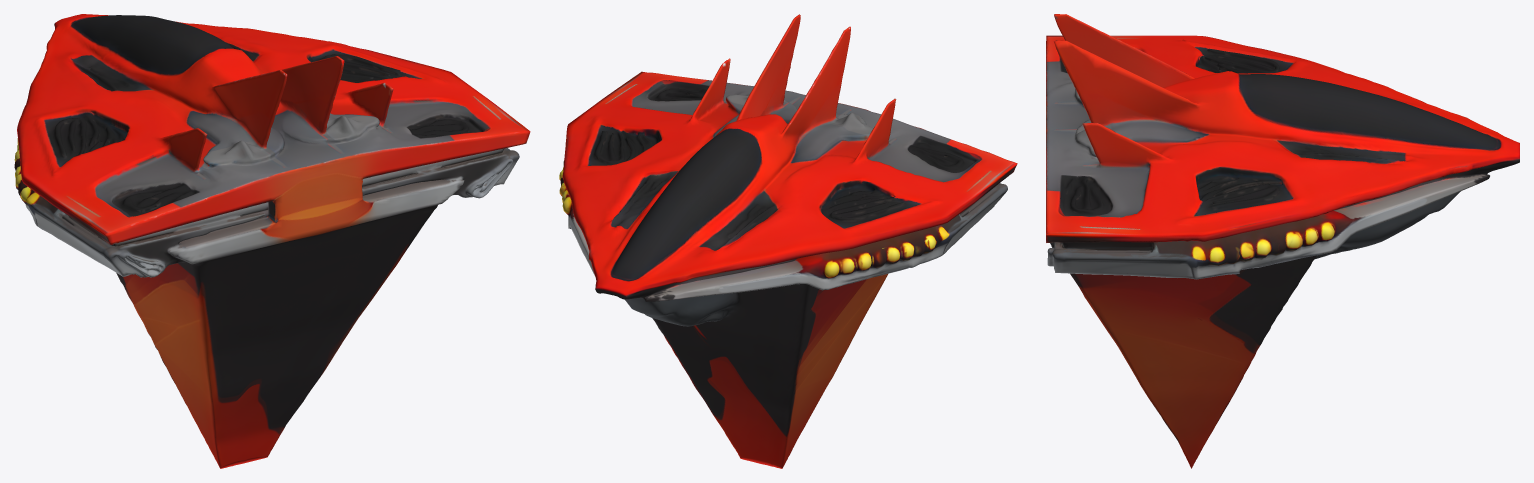
Rendered from enemy-basic.glb.
3 views of the same model, side by side, from view 1: azimuth 30°, elevation 25°; view 2: azimuth 150°, elevation 25°; view 3: azimuth 270°, elevation 25° (orthographic). The views are drawn at different scales.
Visible parts, largest first — view 1: model; view 2: model; view 3: model.
Boxes of the visible parts, x1,y1,x2,y2 form: model: (14,14,530,468); model: (559,14,1017,468); model: (1046,14,1519,468).
Size of the model in its own units: 1.9 by 1.9 by 1.89.
1 material, 1 textured.
